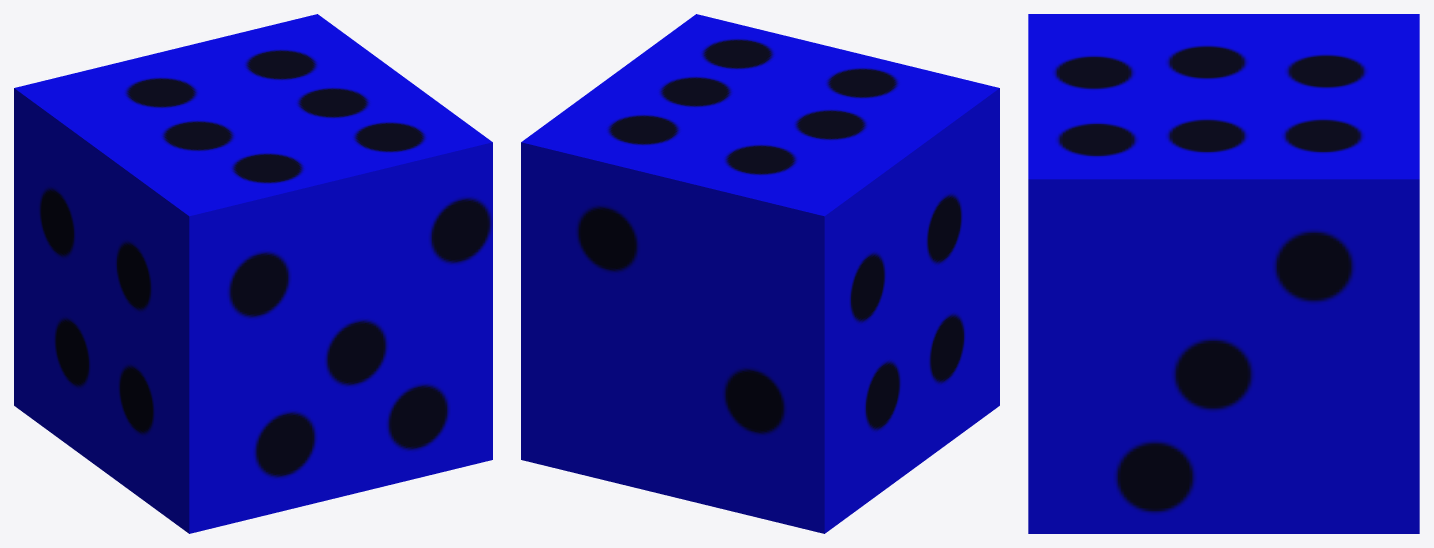
File: TranslucentDice.fbx
3 renders of one model, left to right at view 1: azimuth 30°, elevation 25°; view 2: azimuth 150°, elevation 25°; view 3: azimuth 270°, elevation 25°, orthographic. The views are drawn at different scales.
Parts seen in each view (by area): view 1: pCube3; view 2: pCube3; view 3: pCube3.
Boxes of the visible parts, left/top/right/bottom form: pCube3: left=14, top=14, right=492, bottom=533; pCube3: left=521, top=14, right=999, bottom=533; pCube3: left=1028, top=14, right=1419, bottom=533.
Bounding box in the file's own units: 1 × 1 × 1.
Materials: 1 (1 with a texture image).
